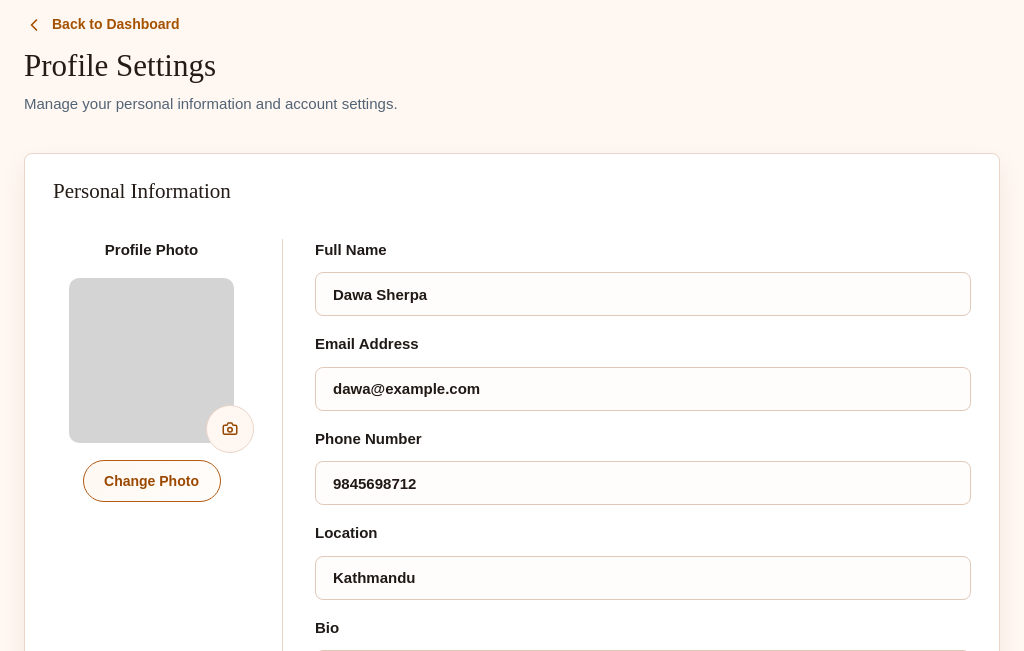
Test: displays profile data and opens the existing update confirmation
This screenshot has width=1024, height=651.
Check: the field showing "dawa@example.com" is shown, box [315,367,971,411]
Replace the text in the field labelled "Full Name" with "Dawa S" at {"x": 643, "y": 294}, box [315,272,971,316]
(page scrolled)
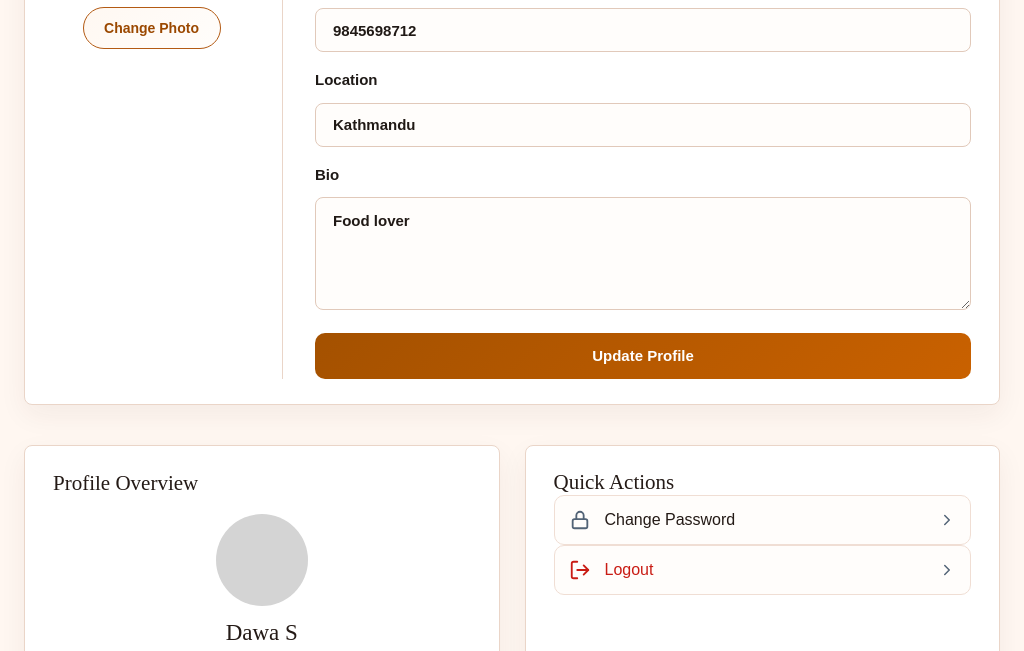
Click the button "Update Profile".
click(643, 356)  # box [315,333,971,379]
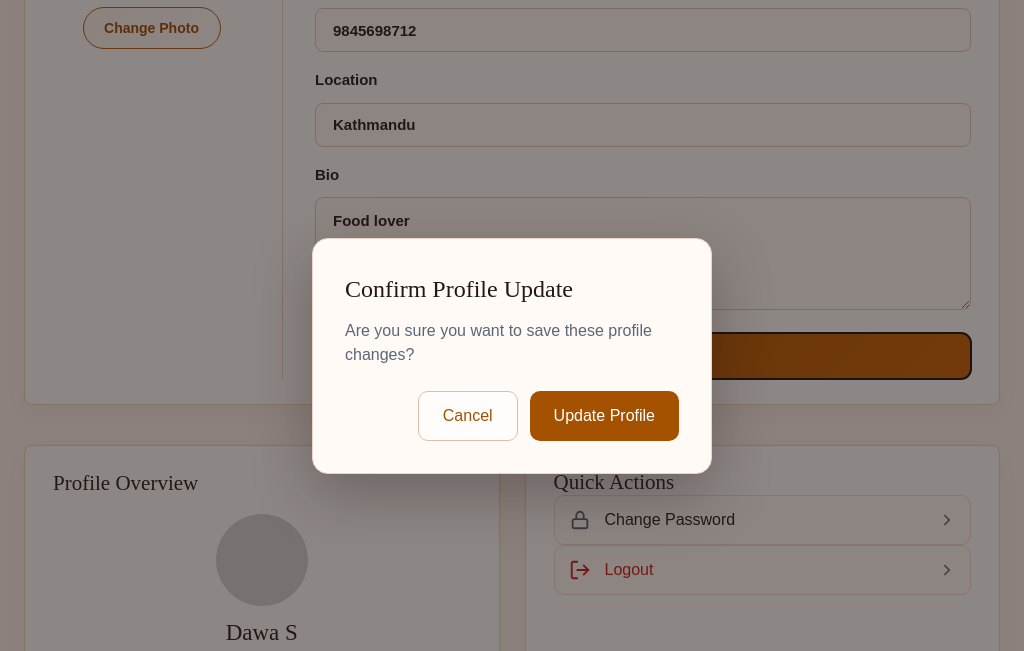
Check: the heading "Confirm Profile Update" is shown, box [345,276,573,302]
